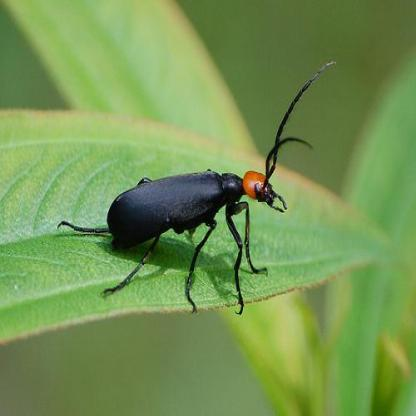beetle: (101, 104, 306, 322)
